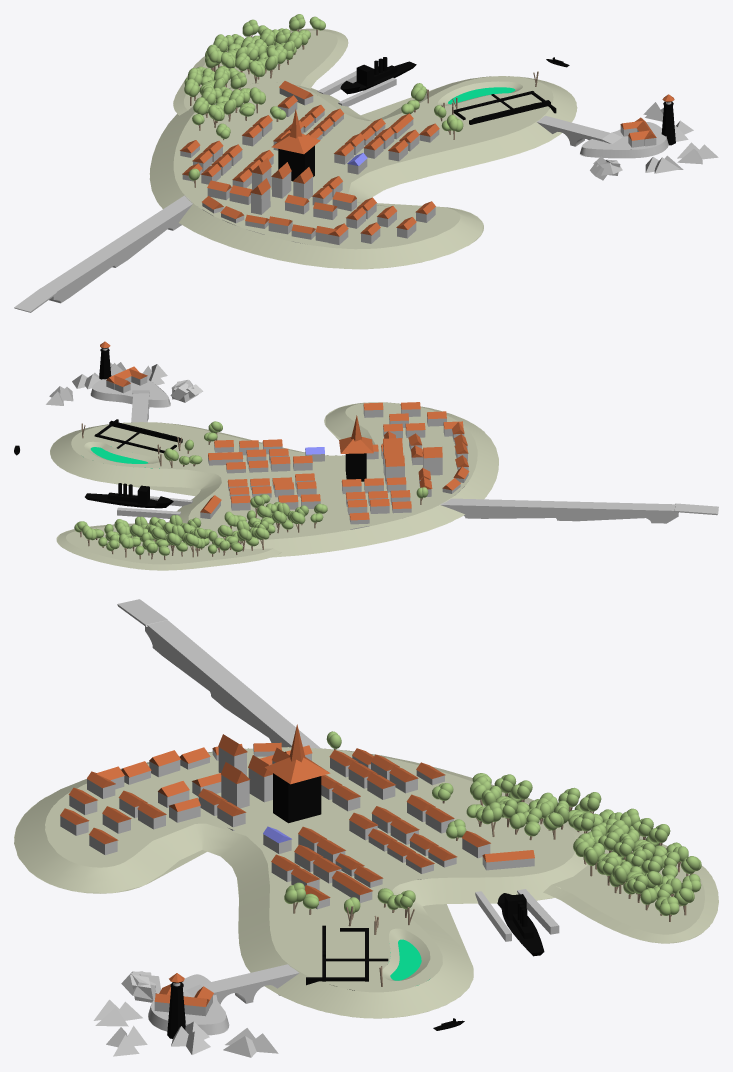
The model's file is island2.fbx.
3 renders of one model, top to bottom at view 1: azimuth 30°, elevation 25°; view 2: azimuth 150°, elevation 25°; view 3: azimuth 270°, elevation 25°, orthographic. The views are drawn at different scales.
Parts seen in each view (by area): view 1: Island-town; view 2: Island-town; view 3: Island-town.
Boxes of the visible parts, x1=… form: Island-town: x1=14, y1=14, x2=718, y2=312; Island-town: x1=14, y1=341, x2=718, y2=570; Island-town: x1=14, y1=599, x2=718, y2=1057.
Bounding box in the file's own units: 5209 × 617 × 3472.
